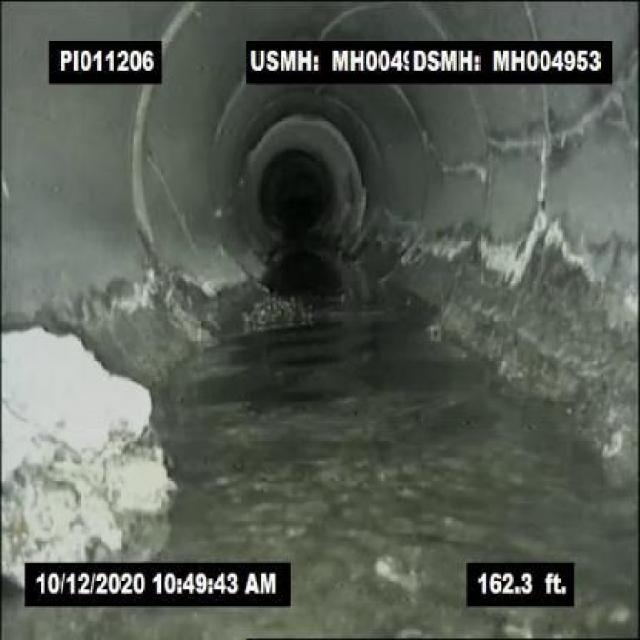Crack: (549, 88, 625, 146), (489, 129, 548, 157), (537, 148, 554, 206)
Debris: (5, 323, 172, 563)
